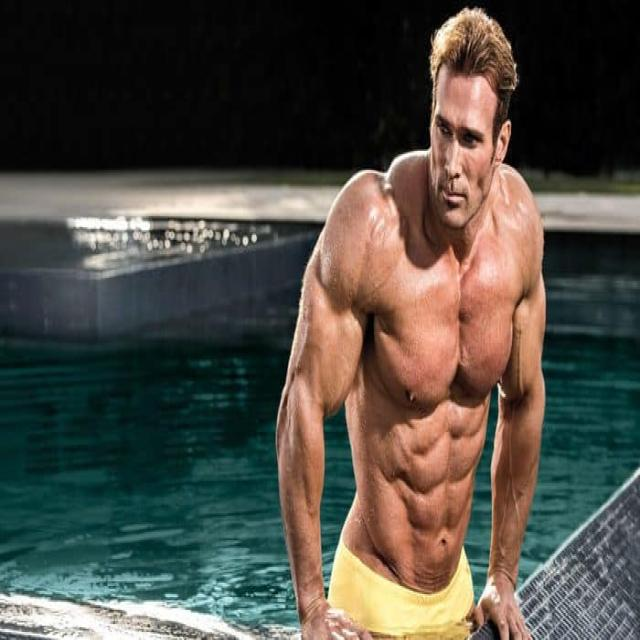mobile_phonerotation: (274, 6, 548, 637)
